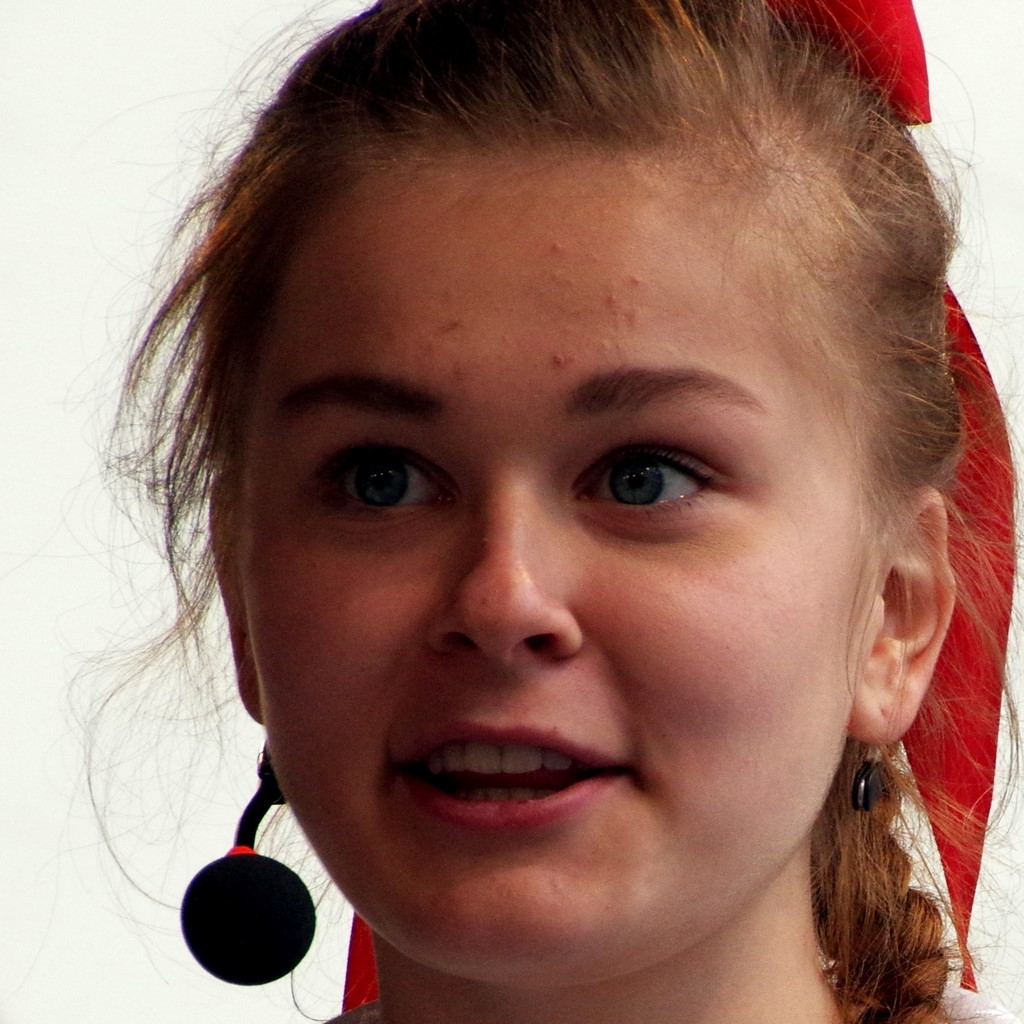sin_mascara: (204, 78, 932, 987)
